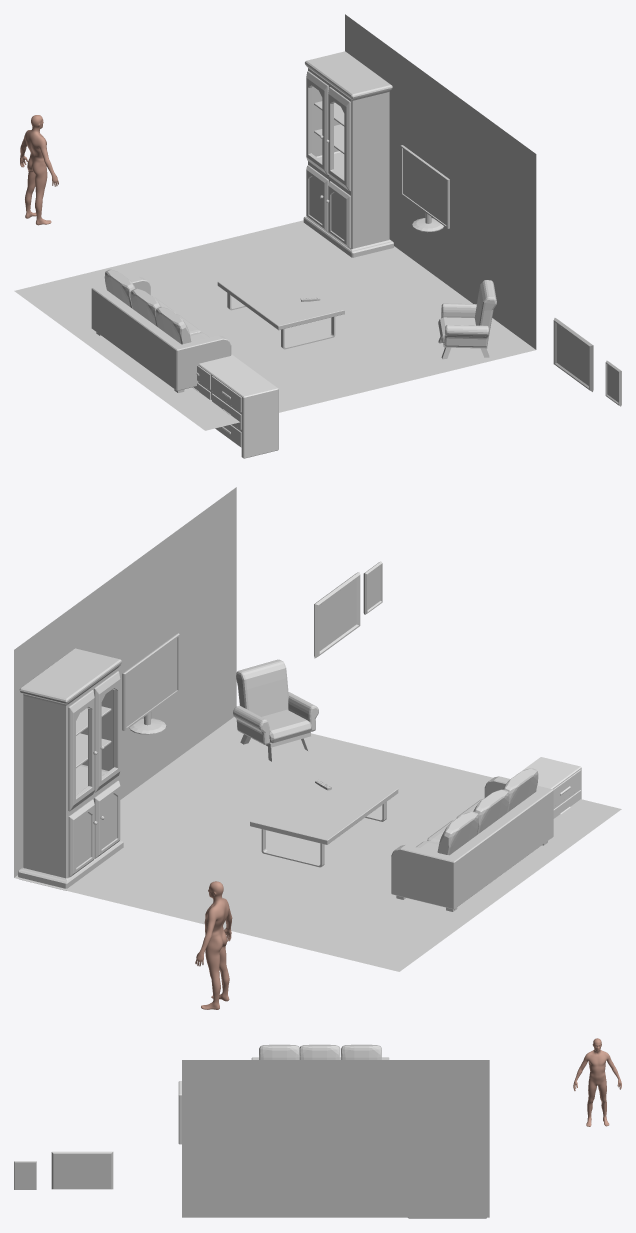
Rendered from Chest_of_Drawers.fbx.
3 renders of one model, top to bottom at view 1: azimuth 30°, elevation 25°; view 2: azimuth 150°, elevation 25°; view 3: azimuth 270°, elevation 25°, orthographic. The views are drawn at different scales.
Parts seen in each view (by area): view 1: Cube.009, Cube.012, Cube.019, Cube.002, Cube, Cube.036, Cube.004, HumanBody:humanBody, Cube.030, Cube.016, Cube.062, Cube.022 (+5 smaller); view 2: Cube.009, Cube.012, Cube.019, Cube.002, Cube.036, Cube.004, HumanBody:humanBody, Cube.030, Cube.016, Cube.062, Cube.013, Cube.022 (+5 smaller); view 3: Cube.009, Cube.030, HumanBody:humanBody, Cube.031, Cube.023, Cube.020, Cube.021.
Boxes of the visible parts, x1,y1,x2,y2 form: Cube.009: (14,14,536,430); Cube.012: (303,51,393,257); Cube.019: (91,276,231,392); Cube.002: (217,265,344,349); Cube: (198,354,278,458); Cube.036: (438,280,496,359); Cube.004: (400,145,449,228); HumanBody:humanBody: (20,115,58,225); Cube.030: (553,318,593,391); Cube.016: (326,87,350,191); Cube.062: (306,71,328,174); Cube.022: (326,181,350,247); Cube.009: (14,487,621,971); Cube.012: (18,648,123,890); Cube.019: (391,776,553,911); Cube.002: (250,769,398,867); Cube.036: (233,659,318,761); Cube.004: (122,633,179,730); HumanBody:humanBody: (195,881,232,1009); Cube.030: (314,572,360,658); Cube.016: (94,671,120,792); Cube.062: (68,690,97,811); Cube.013: (68,799,97,877); Cube.022: (94,780,120,858); Cube.009: (182,1060,489,1217); Cube.030: (51,1151,113,1189); HumanBody:humanBody: (573,1038,621,1126); Cube.031: (14,1161,36,1189); Cube.023: (299,1044,340,1059); Cube.020: (341,1044,381,1059); Cube.021: (259,1044,299,1059).
Bounding box in the file's own units: 601 × 402 × 1188.
